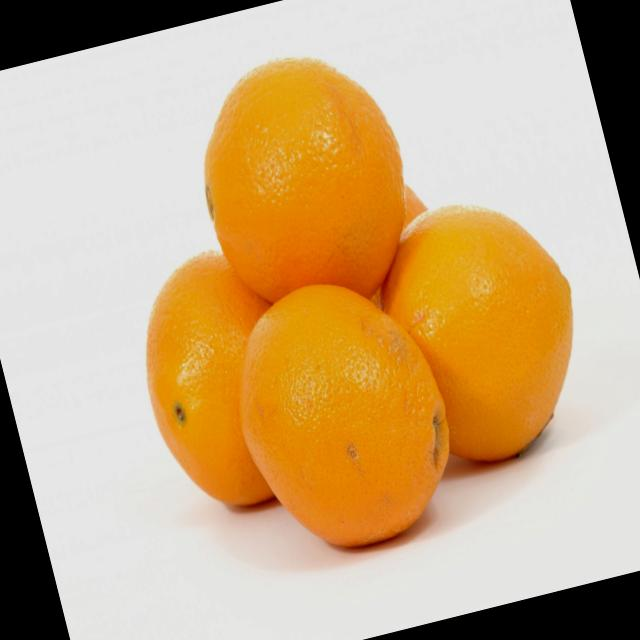orange: (149, 26, 446, 362), (195, 243, 486, 572), (359, 183, 611, 515), (108, 227, 352, 539)
